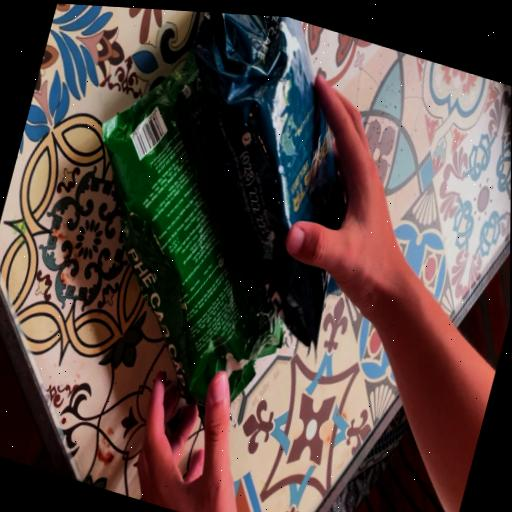cafe_hat: (192, 12, 343, 344)
cafe_xay: (102, 74, 282, 415)
